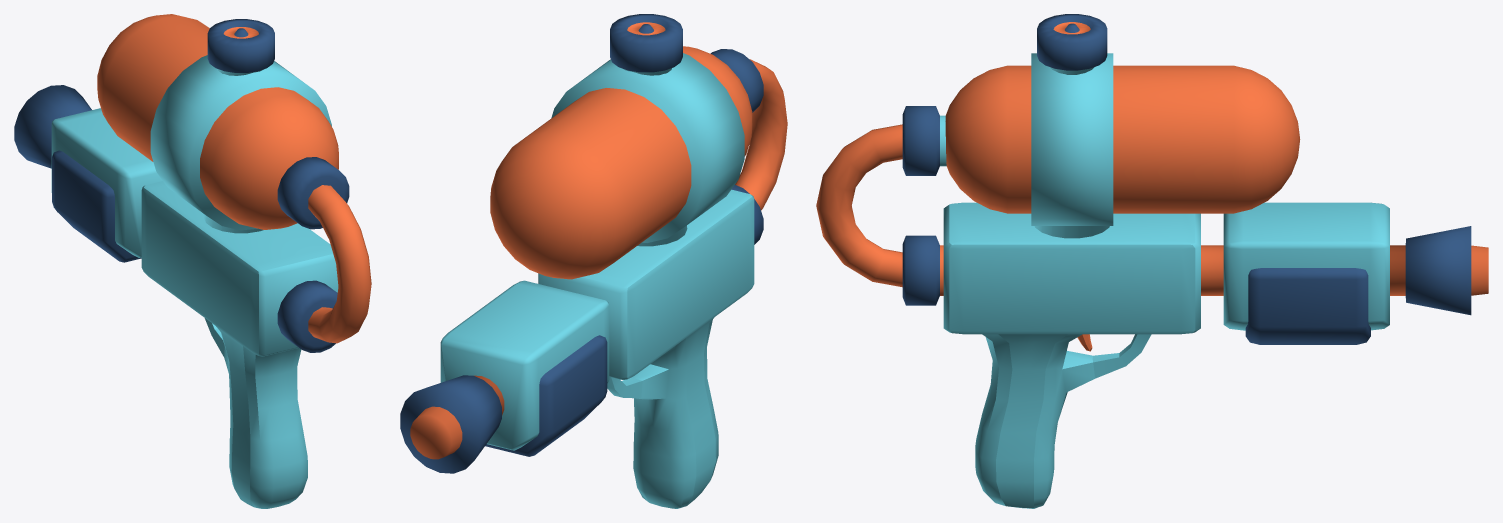
The model's file is gun_2.fbx.
The picture shows the model from 3 angles, left to right: view 1: azimuth 30°, elevation 25°; view 2: azimuth 150°, elevation 25°; view 3: azimuth 270°, elevation 25°; orthographic projection. The views are drawn at different scales.
Visible parts, largest first — view 1: Cube.006; view 2: Cube.006; view 3: Cube.006.
Part boxes in pixels (bbox=[...]): Cube.006: bbox=[14, 14, 371, 508]; Cube.006: bbox=[400, 14, 787, 508]; Cube.006: bbox=[816, 14, 1488, 508].
Size of the model in its own units: 441 by 1353 by 1721.
